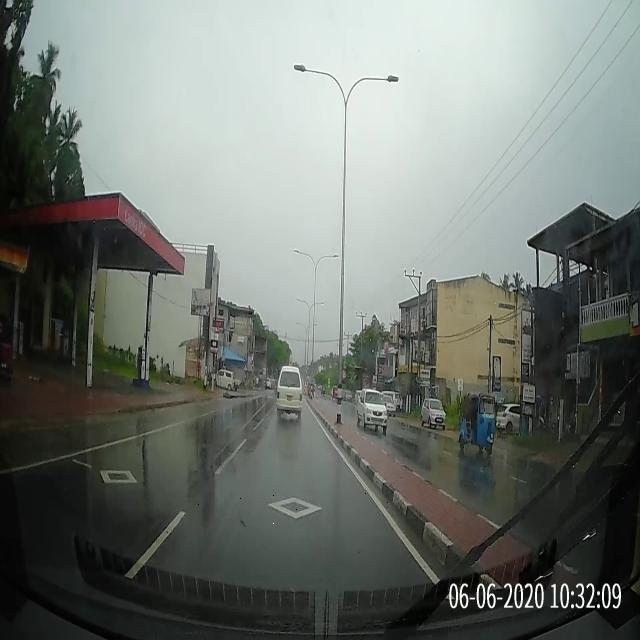diamond: (180, 491, 397, 524)
